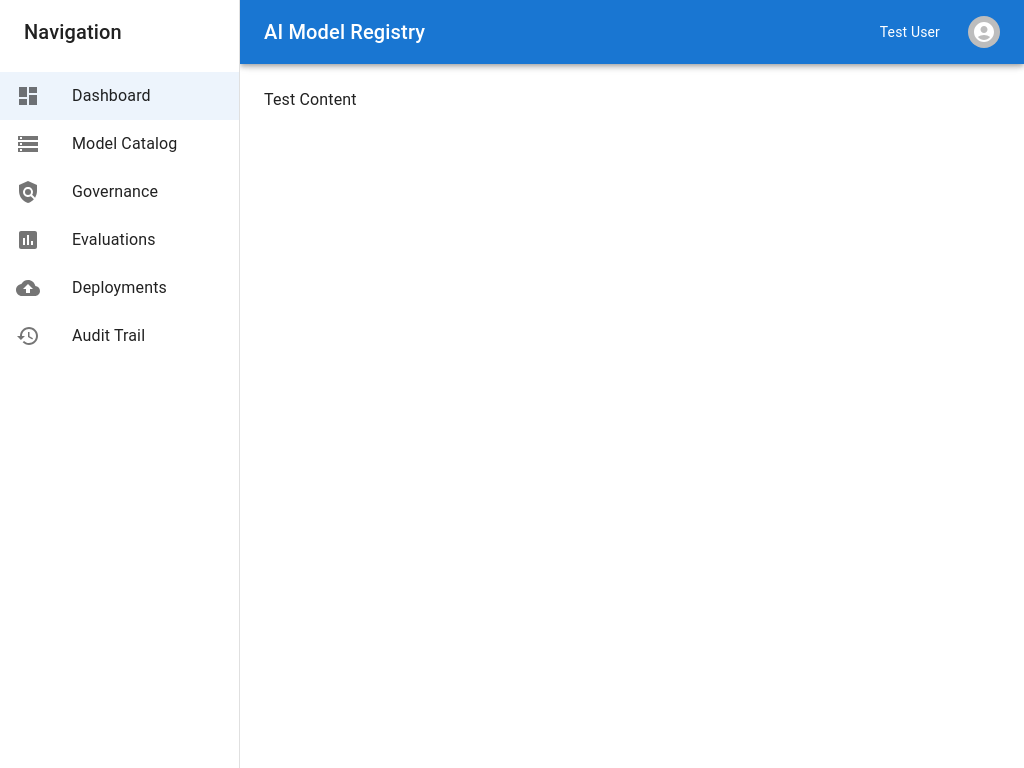
Scenario: Layout › opens profile menu when avatar is clicked
The image size is (1024, 768).
Click the button named "account of current user": click(984, 32) [956,4,1012,60]
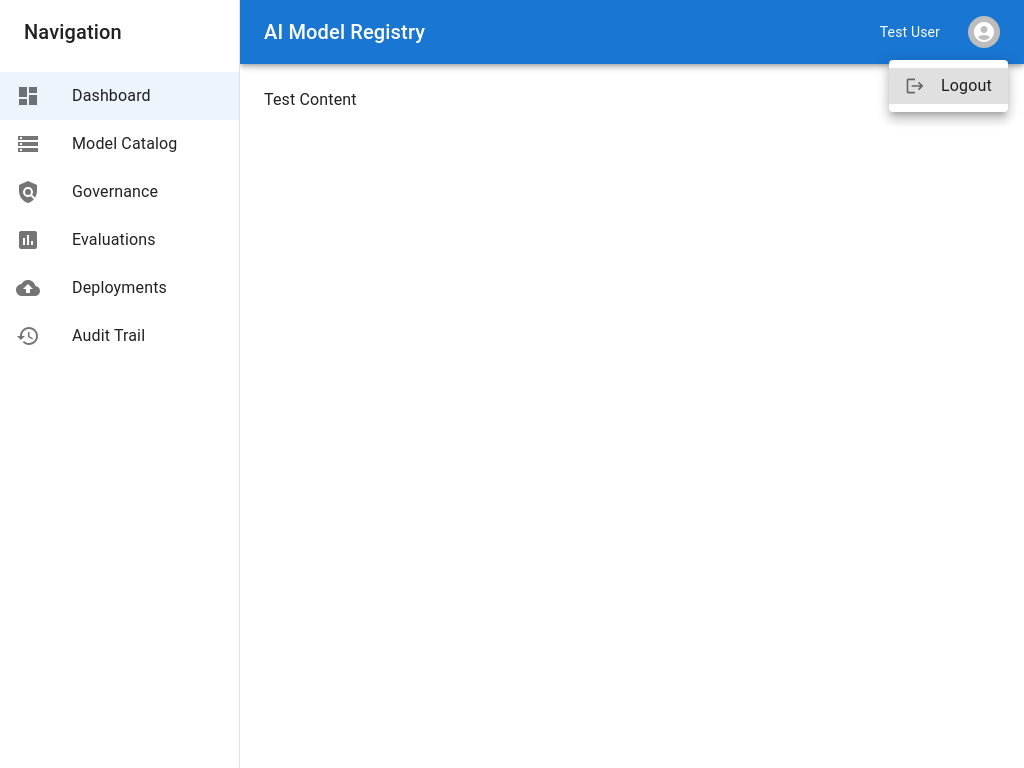
Now the menu item "Logout" is shown, box [889,68,1008,104]
